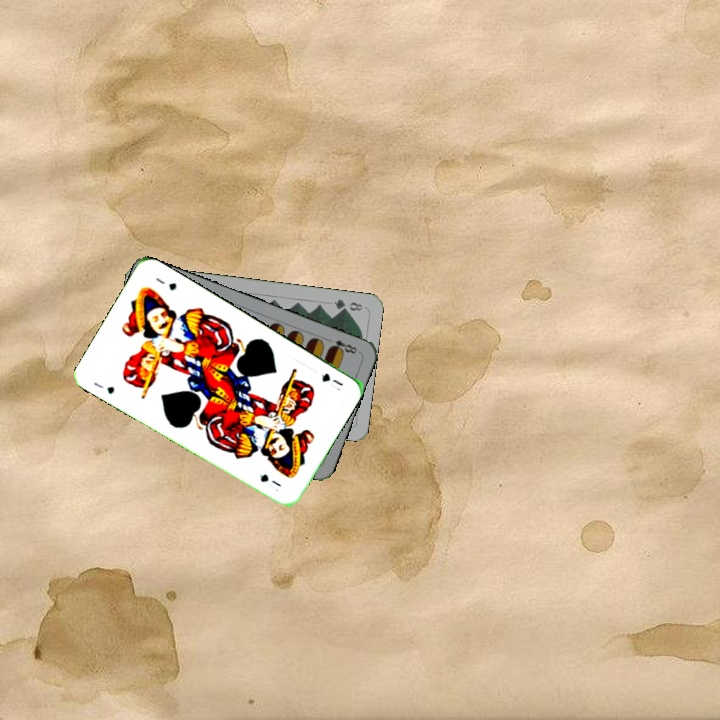E8: (323, 334, 360, 356)
G8: (330, 295, 365, 314)
GU: (317, 369, 346, 393), (89, 378, 117, 397)
